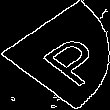P_NW: (12, 24, 98, 86)
